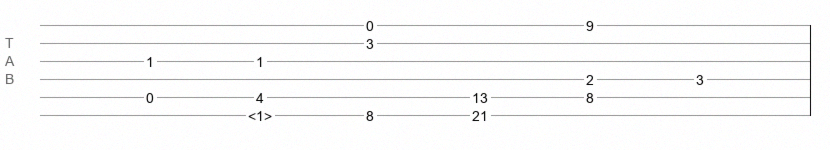0: (146, 90, 154, 100), (366, 18, 374, 28)
1: (146, 54, 154, 64), (256, 54, 264, 64)
13: (472, 90, 488, 100)
2: (586, 72, 594, 82)
21: (472, 108, 488, 118)
3: (366, 36, 374, 46), (696, 72, 704, 82)
4: (256, 90, 264, 100)
8: (366, 108, 374, 118), (586, 90, 594, 100)
9: (586, 18, 594, 28)
harmonic: (248, 108, 272, 118)
